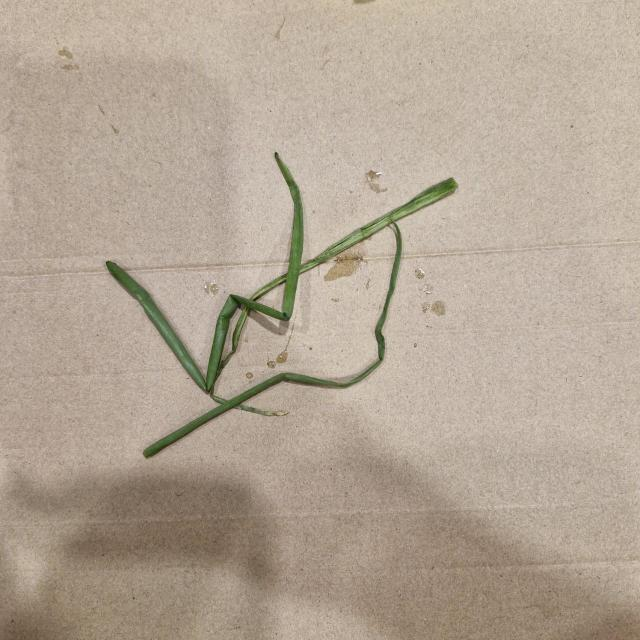food_waste: (66, 140, 498, 472)
